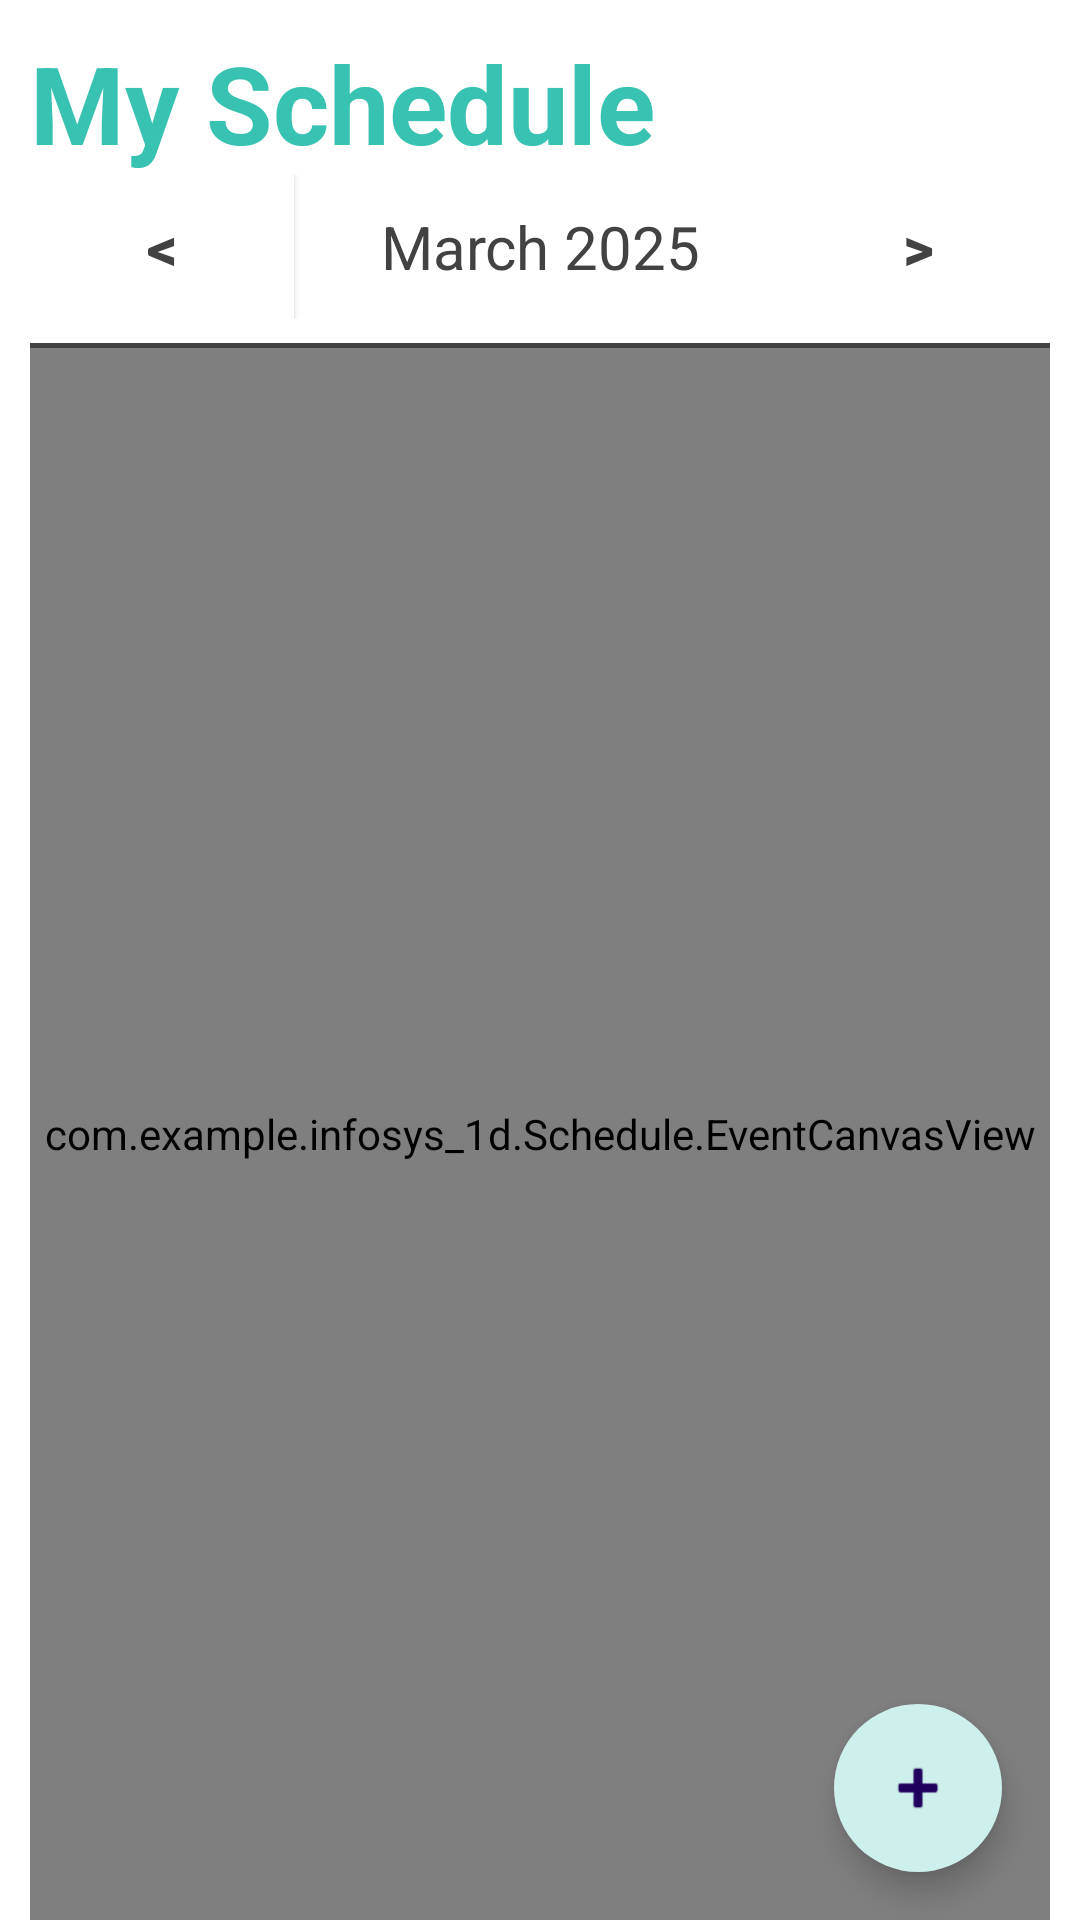

Icon bounding boxes for this 1080*1920 phone screenshot, format BBox(x1, y1, x2, y2):
add: BBox(834, 1704, 1002, 1872)
